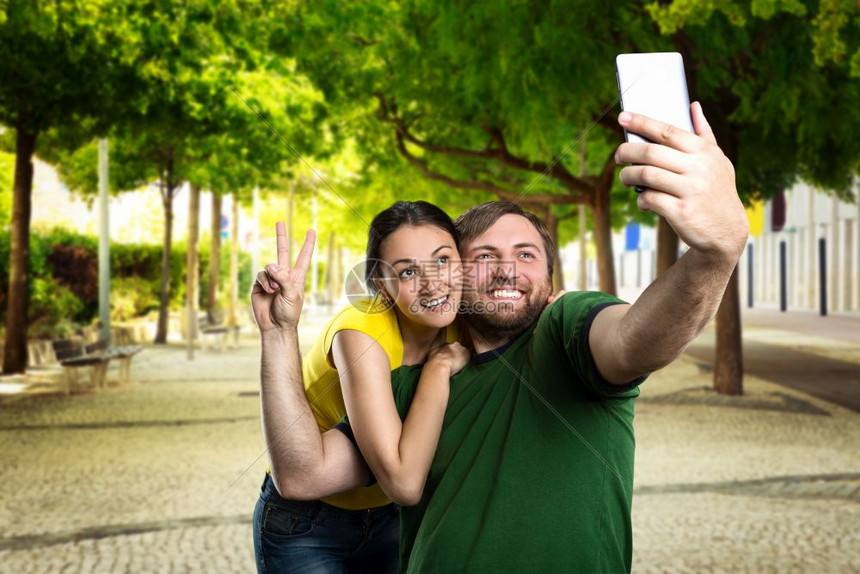no-phone: (250, 219, 317, 331)
taking photos: (607, 44, 750, 253)
